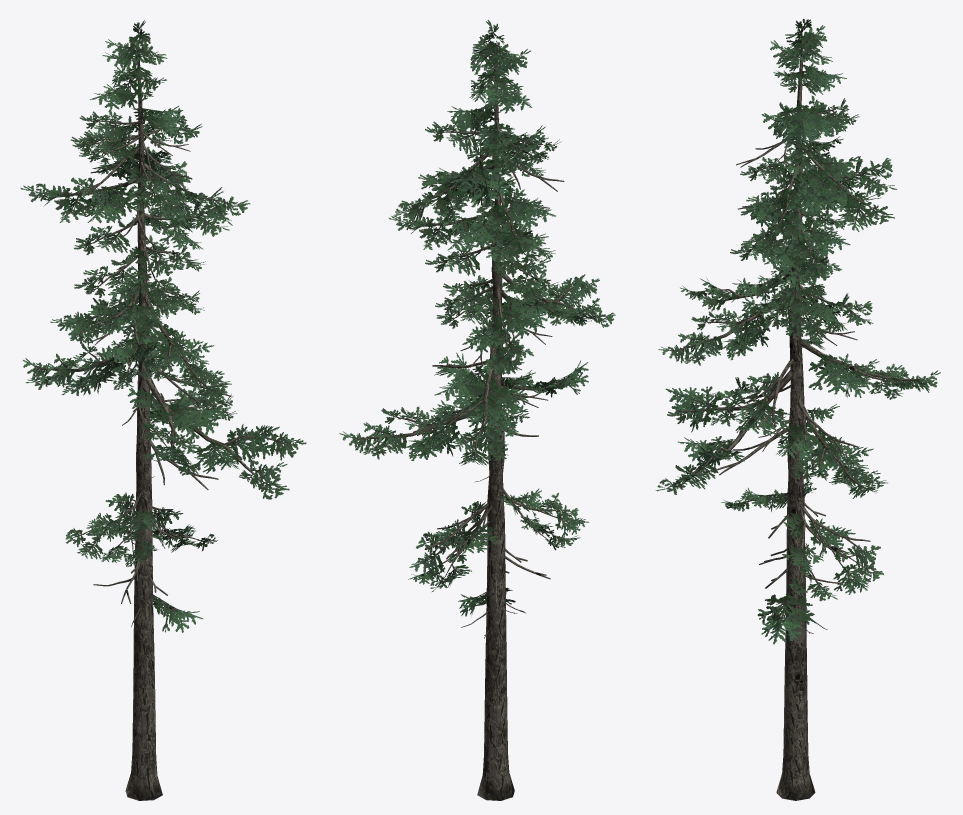
File: Tree2-3-HalfLeaves.fbx
3 views of the same model, side by side, from view 1: azimuth 30°, elevation 25°; view 2: azimuth 150°, elevation 25°; view 3: azimuth 270°, elevation 25° (orthographic).
Visible parts, largest first — view 1: Tree2-3-HalfLeaves_LOD0; view 2: Tree2-3-HalfLeaves_LOD0; view 3: Tree2-3-HalfLeaves_LOD0.
Part boxes in pixels (x1,y1,x2,y2): Tree2-3-HalfLeaves_LOD0: (20,20,306,800); Tree2-3-HalfLeaves_LOD0: (339,20,615,800); Tree2-3-HalfLeaves_LOD0: (655,19,940,800).
Size of what is drawn, in the model's own units: 3.35 by 4.04 by 11.51.
